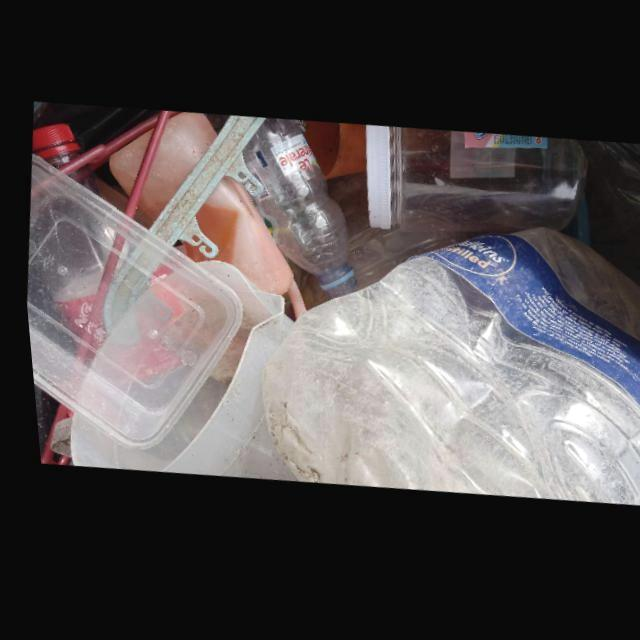plastic_bottle: (253, 233, 640, 512), (238, 119, 351, 296)
plastic_container: (21, 155, 236, 453), (62, 262, 288, 483), (106, 111, 299, 319), (362, 127, 583, 238)
